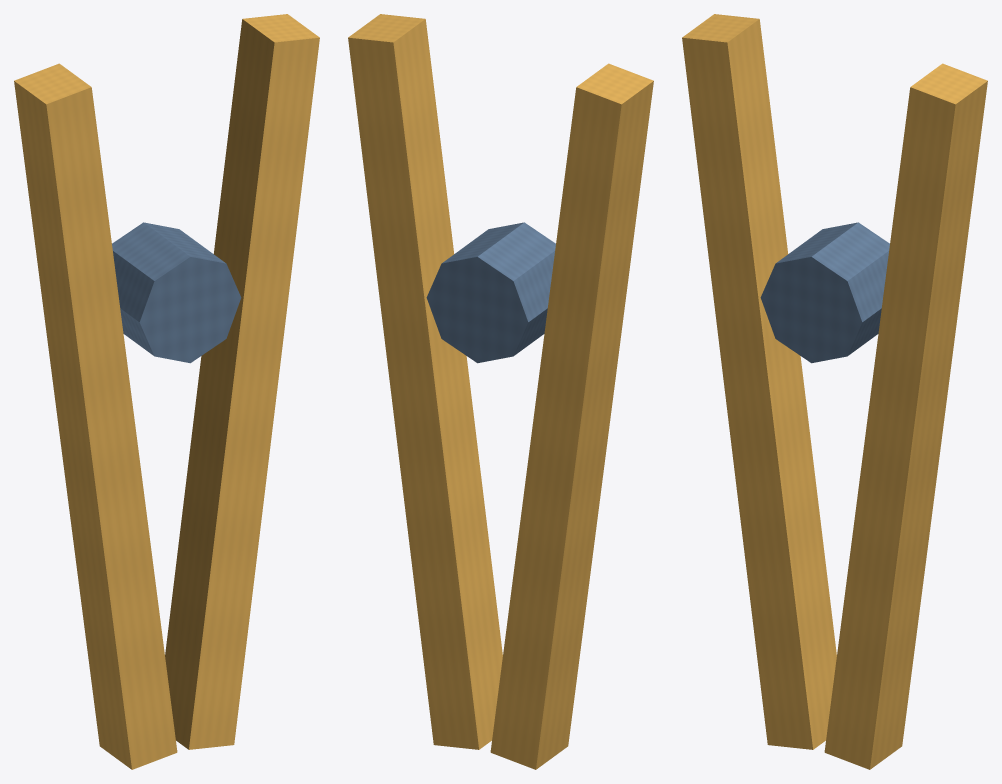
Rendered from atlas100-s057-a05.glb.
The picture shows the model from 3 angles, left to right: view 1: azimuth 30°, elevation 25°; view 2: azimuth 150°, elevation 25°; view 3: azimuth 330°, elevation 25°; orthographic projection.
Parts seen in each view (by area): view 1: atlas100-s057-a05:part-001, atlas100-s057-a05:part-000, atlas100-s057-a05:part-002; view 2: atlas100-s057-a05:part-001, atlas100-s057-a05:part-000, atlas100-s057-a05:part-002; view 3: atlas100-s057-a05:part-000, atlas100-s057-a05:part-001, atlas100-s057-a05:part-002.
Part boxes in pixels (x1,y1,x2,y2): atlas100-s057-a05:part-001: [165, 14, 319, 749]; atlas100-s057-a05:part-000: [14, 63, 177, 769]; atlas100-s057-a05:part-002: [112, 222, 241, 363]; atlas100-s057-a05:part-001: [348, 14, 502, 749]; atlas100-s057-a05:part-000: [490, 63, 653, 769]; atlas100-s057-a05:part-002: [426, 222, 555, 363]; atlas100-s057-a05:part-000: [682, 14, 836, 749]; atlas100-s057-a05:part-001: [824, 63, 987, 769]; atlas100-s057-a05:part-002: [760, 222, 889, 363].
Bounding box in the file's own units: 0.2936 × 0.7102 × 0.0874.
2 materials, 2 textured.
